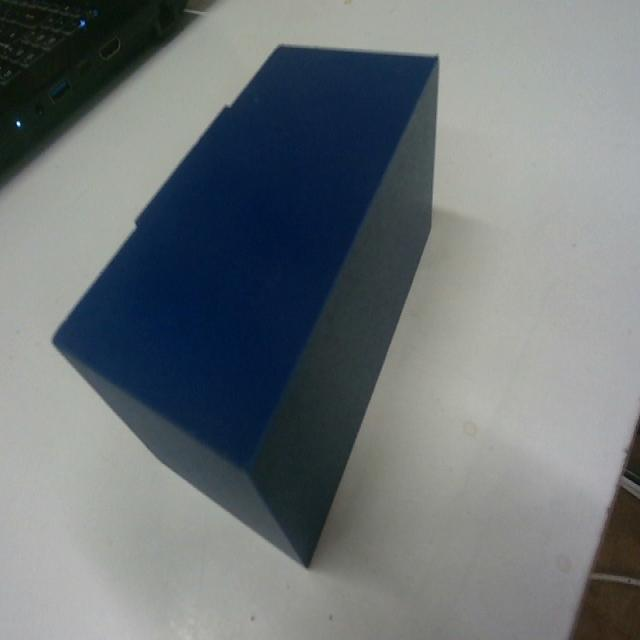Blue Cuboid: (51, 40, 441, 567)
